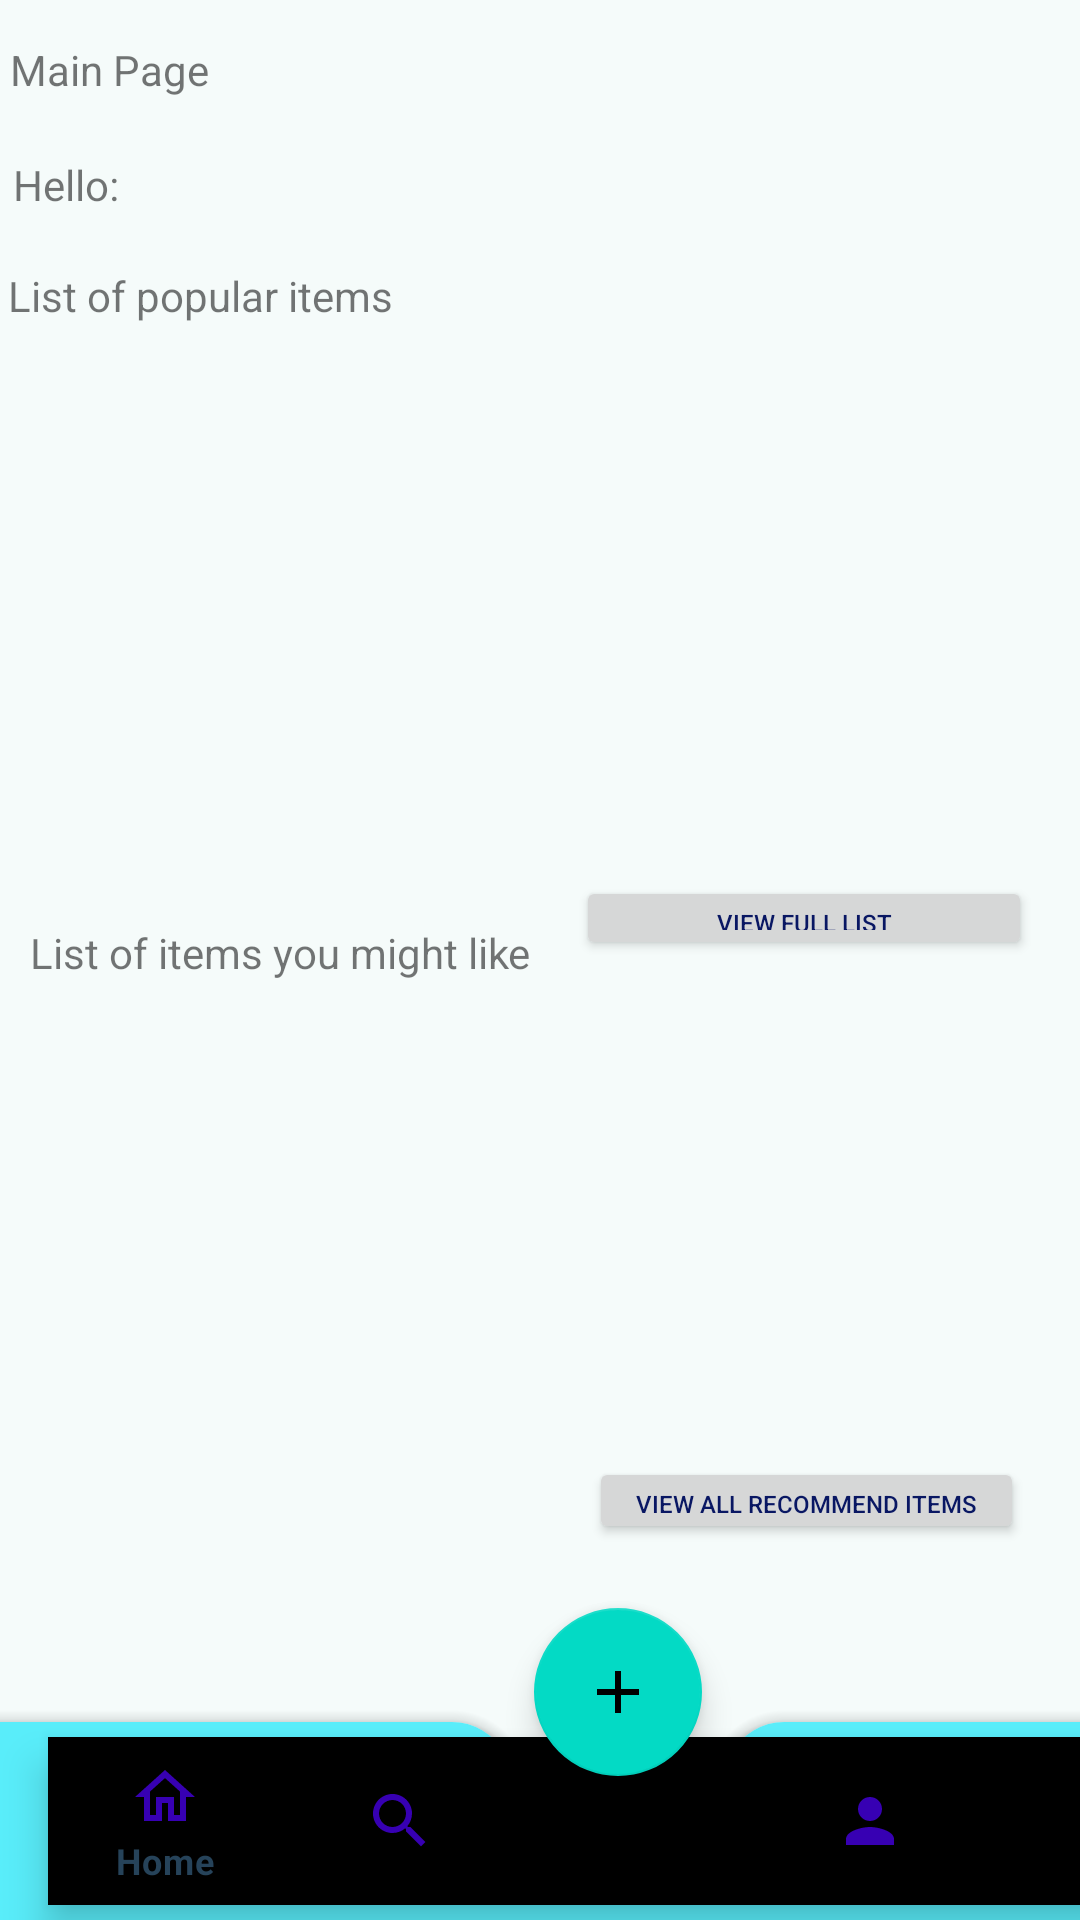

Icons on this 1080 × 1920 Android screen, each with the point to tap as [x,y]:
add: [618,1722]
